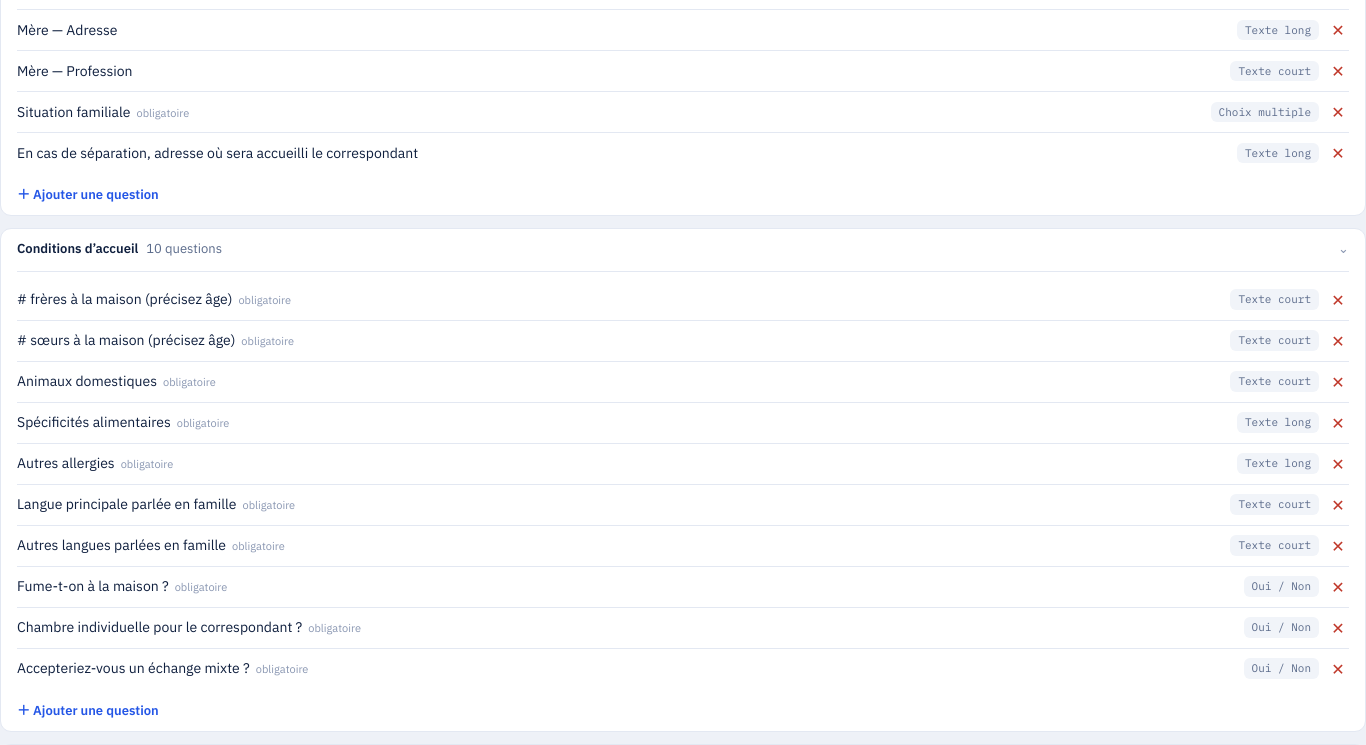
Test case: QuestionnaireEditor › shows the server's refusal code as a sentence, never a digest
(page scrolled)
Click the button named "Retirer — Animaux domestiques": coordinates (1338, 382) [1327,370,1349,394]
(page scrolled)
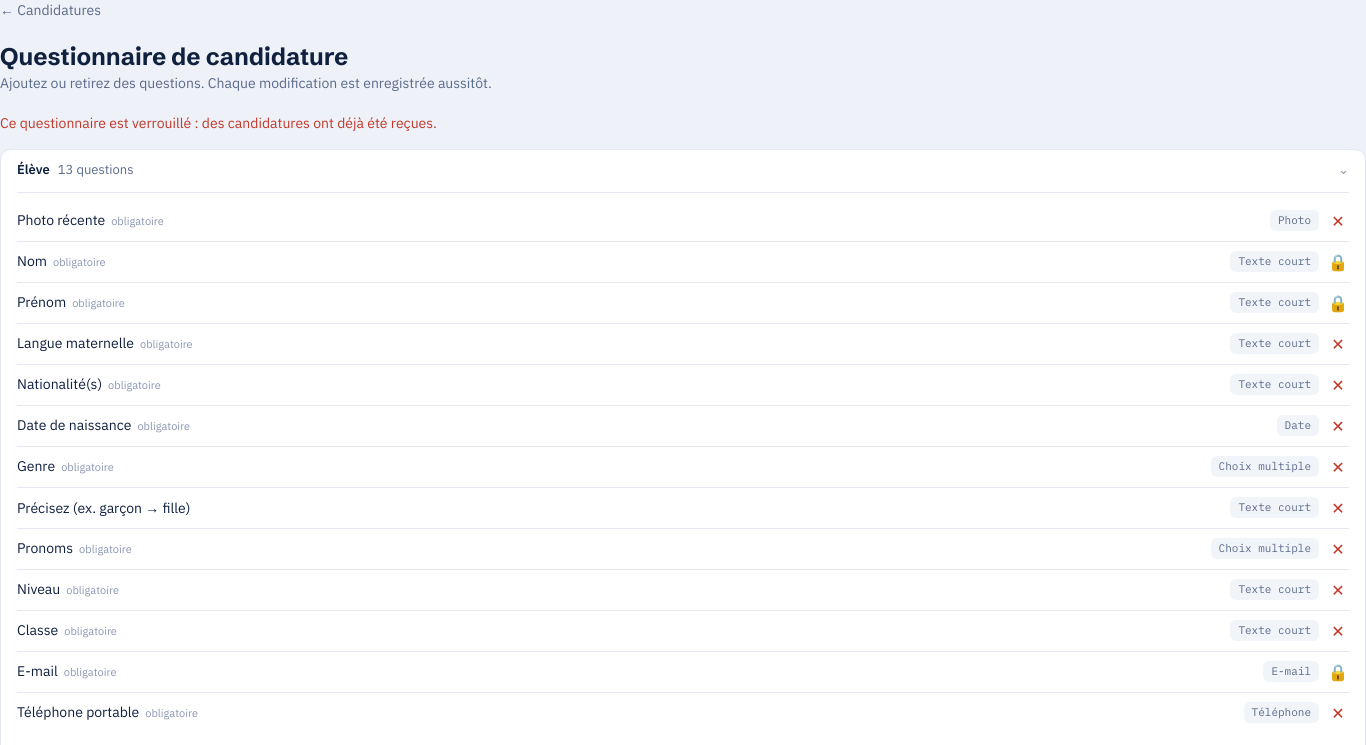
Result: the text "verrouillé" is shown at [0,114,437,132]
